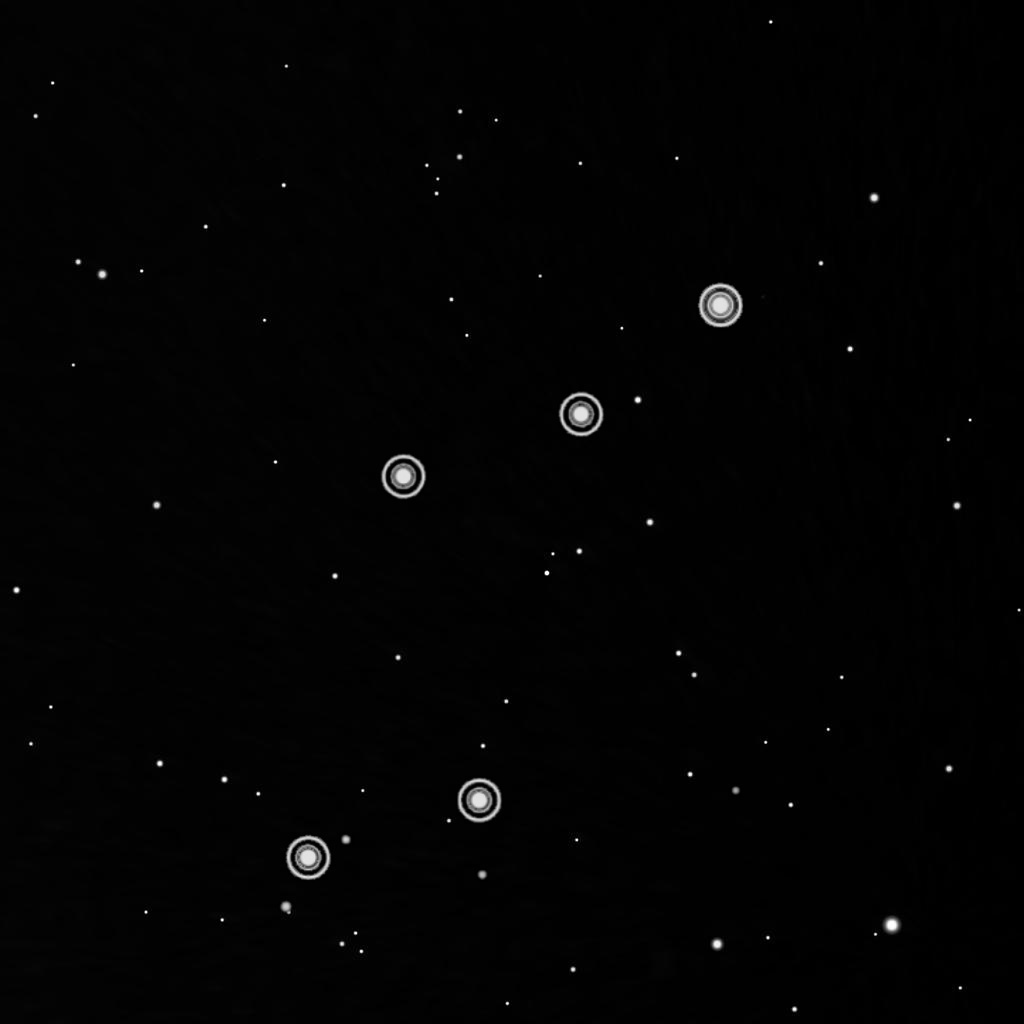lyra: (274, 261, 756, 893)
